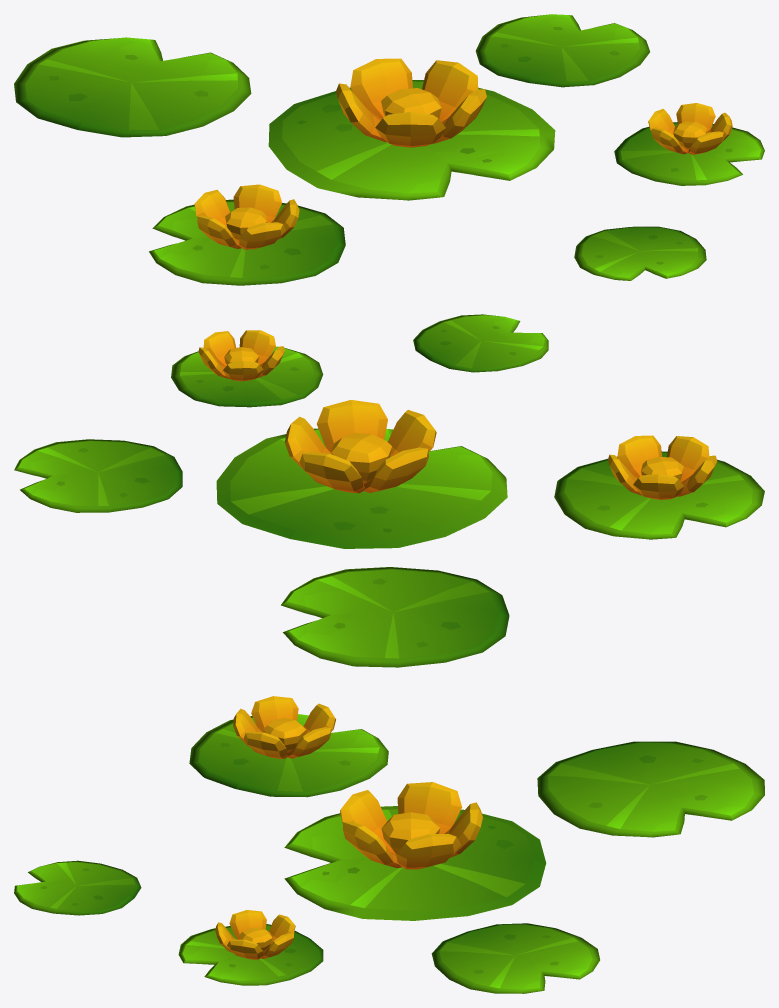
File: waterlily_yellow_group.glb
3 views of the same model, one above another, from view 1: azimuth 30°, elevation 25°; view 2: azimuth 150°, elevation 25°; view 3: azimuth 270°, elevation 25° (orthographic). The views are drawn at different scales.
Visible parts, largest first — view 1: waterlily_yellow_group; view 2: waterlily_yellow_group; view 3: waterlily_yellow_group.
Part boxes in pixels (box(x1,y1,x2,y2)): waterlily_yellow_group: box(14, 14, 764, 285); waterlily_yellow_group: box(14, 314, 764, 667); waterlily_yellow_group: box(14, 696, 764, 993).
Size of the model in its own units: 2.37 by 0.2342 by 2.68.
1 material, 1 textured.
